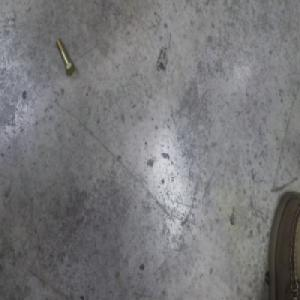Bolt: (56, 38, 76, 77)
